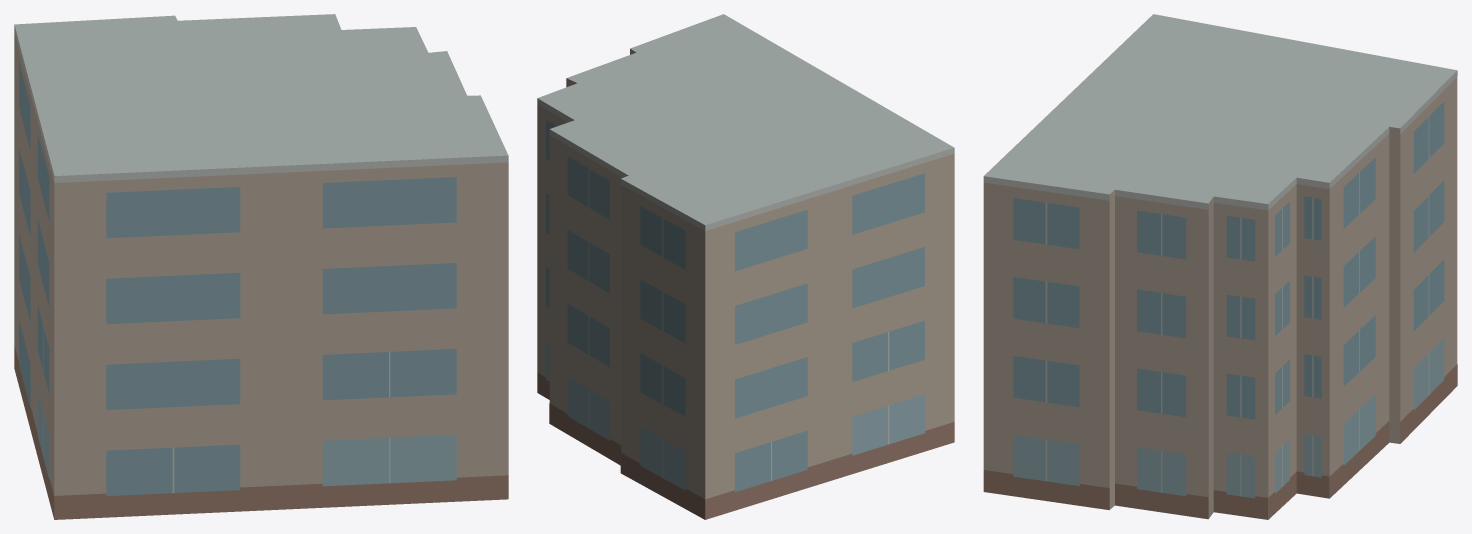
The model's file is survey-upis-32847557.glb.
3 renders of one model, left to right at view 1: azimuth 30°, elevation 25°; view 2: azimuth 150°, elevation 25°; view 3: azimuth 270°, elevation 25°, orthographic. The views are drawn at different scales.
Visible parts, largest first — view 1: survey-upis-32847557.tmp; view 2: survey-upis-32847557.tmp; view 3: survey-upis-32847557.tmp.
Boxes of the visible parts, <box> form: survey-upis-32847557.tmp: <box>14,14,508,519</box>; survey-upis-32847557.tmp: <box>537,14,954,519</box>; survey-upis-32847557.tmp: <box>983,14,1457,519</box>.
Bounding box in the file's own units: 15.77 × 12.2 × 16.6.
